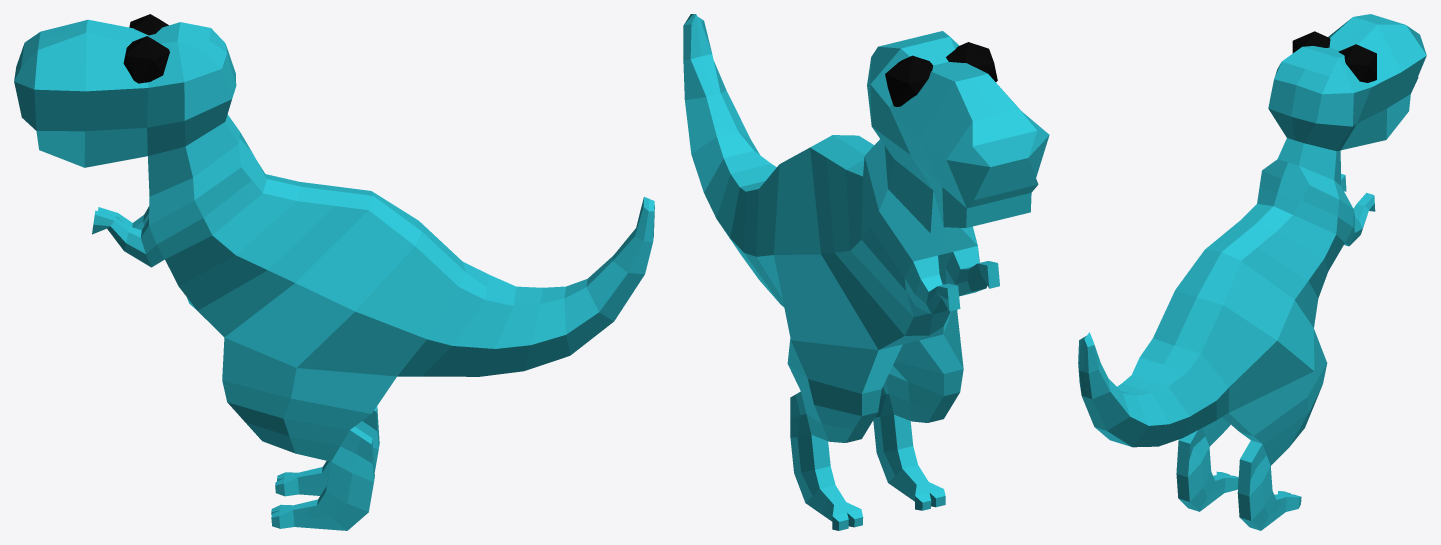
Rendered from dinoLow.fbx.
The picture shows the model from 3 angles, left to right: view 1: azimuth 30°, elevation 25°; view 2: azimuth 150°, elevation 25°; view 3: azimuth 270°, elevation 25°; orthographic projection. The views are drawn at different scales.
Visible parts, largest first — view 1: dino; view 2: dino; view 3: dino.
Part boxes in pixels (x1,y1,x2,y2): dino: [14, 14, 654, 530]; dino: [683, 14, 1049, 530]; dino: [1078, 14, 1426, 530].
Size of the model in its own units: 163 by 156 by 117.
1 material, 1 textured.
